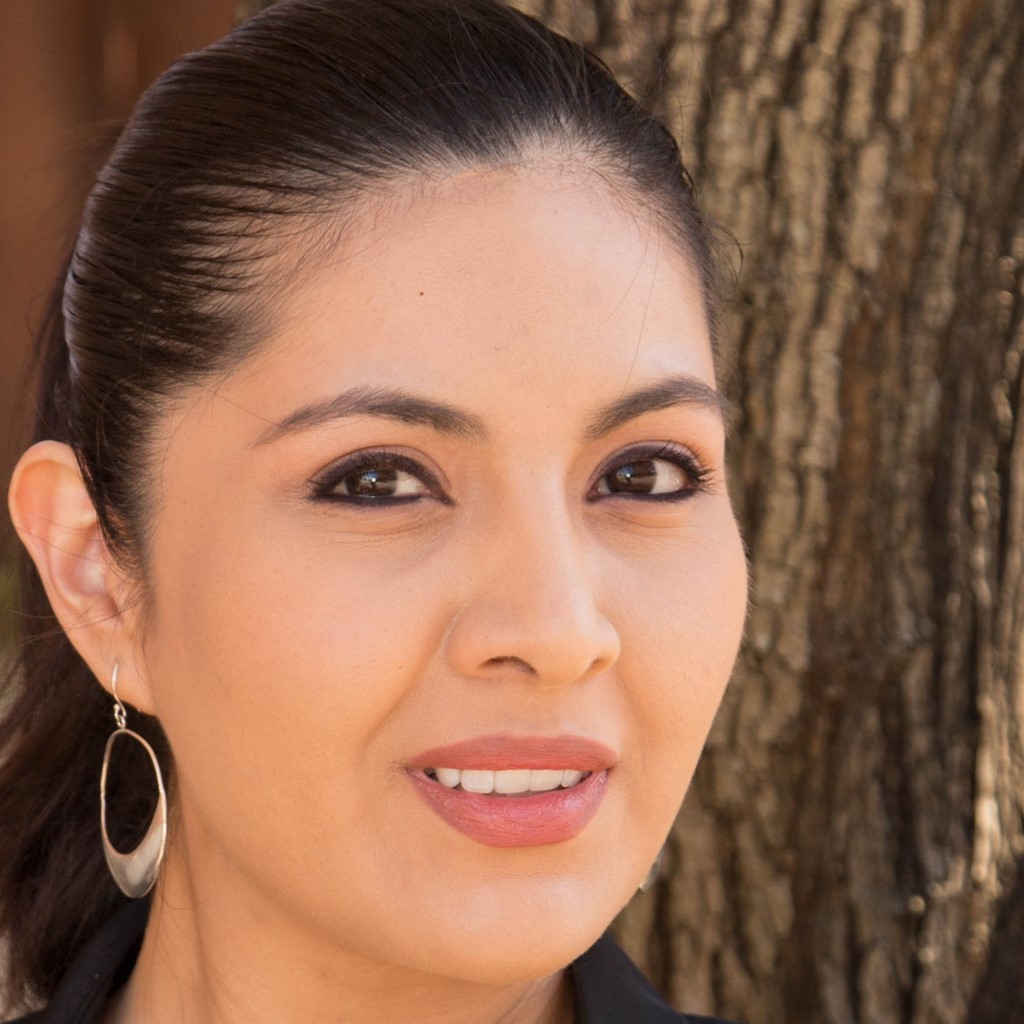sin_mascara: (79, 95, 750, 986)
